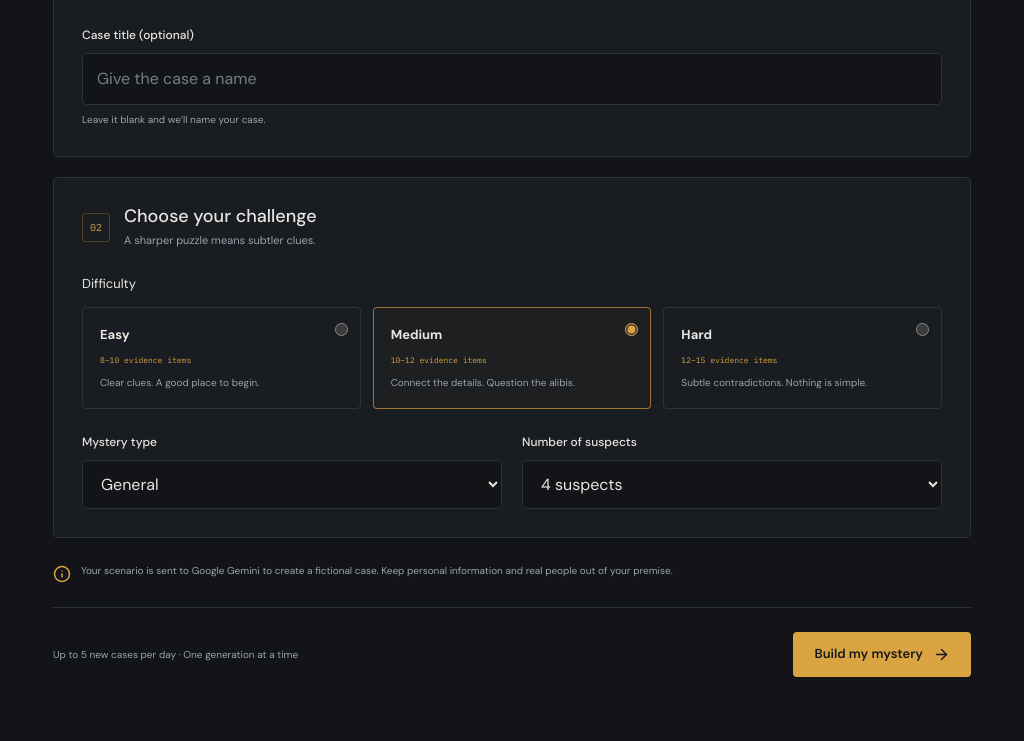
M3 forms › FR-10 rejects a short scenario and exposes an accessible field error
The image size is (1024, 741).
(page scrolled)
Click the button "Build my mystery" at coordinates (882, 654), box 794,632 -> 971,677
(page scrolled)
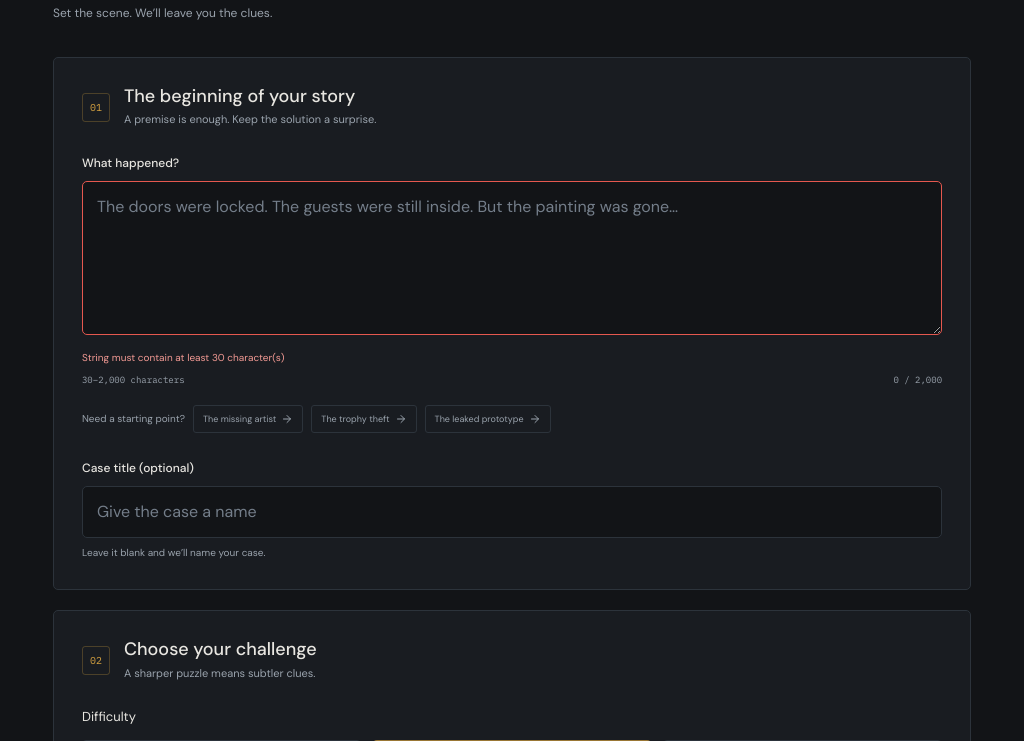
Now the text "at least 30" is shown, box 82,351 -> 284,364
